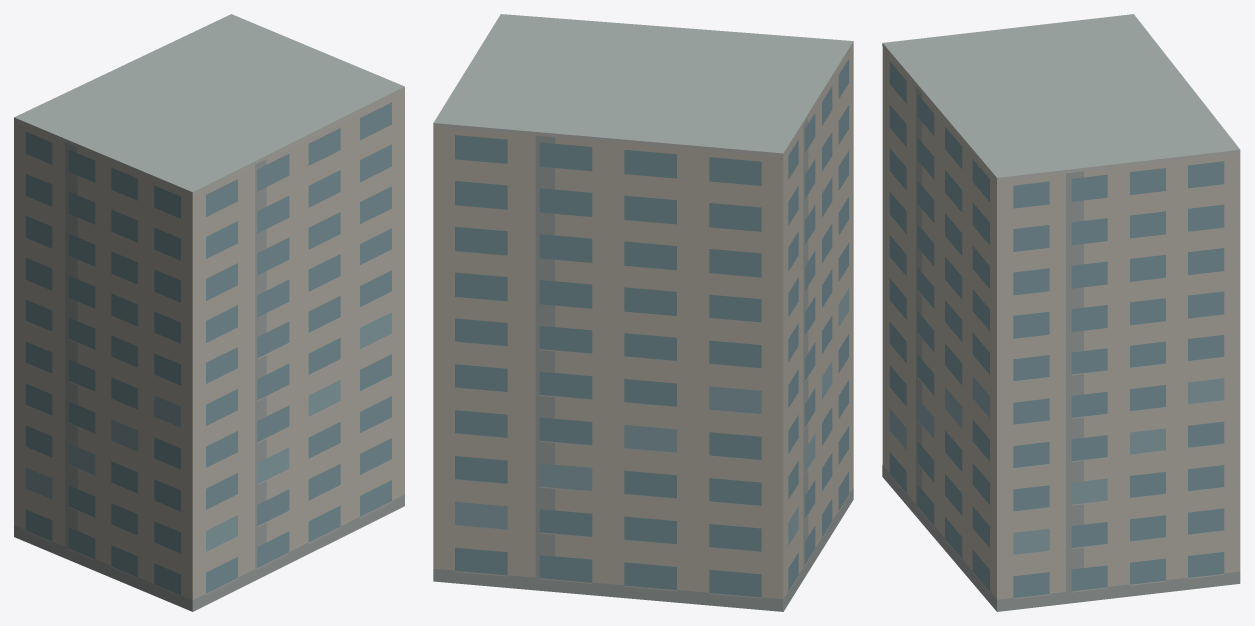
The model's file is residential-df4f2079-8a3c-4b7b-8a50-ace9e5c0036d.glb.
3 renders of one model, left to right at view 1: azimuth 30°, elevation 25°; view 2: azimuth 150°, elevation 25°; view 3: azimuth 270°, elevation 25°, orthographic. The views are drawn at different scales.
Parts seen in each view (by area): view 1: residential-df4f2079-8a3c-4b7b-8a50-ace9e5c0036d.tmp; view 2: residential-df4f2079-8a3c-4b7b-8a50-ace9e5c0036d.tmp; view 3: residential-df4f2079-8a3c-4b7b-8a50-ace9e5c0036d.tmp.
Part boxes in pixels (bbox=[...]): residential-df4f2079-8a3c-4b7b-8a50-ace9e5c0036d.tmp: bbox=[14, 14, 404, 611]; residential-df4f2079-8a3c-4b7b-8a50-ace9e5c0036d.tmp: bbox=[433, 14, 853, 611]; residential-df4f2079-8a3c-4b7b-8a50-ace9e5c0036d.tmp: bbox=[882, 14, 1240, 611].
Bounding box in the file's own units: 25.12 × 31 × 23.18.
